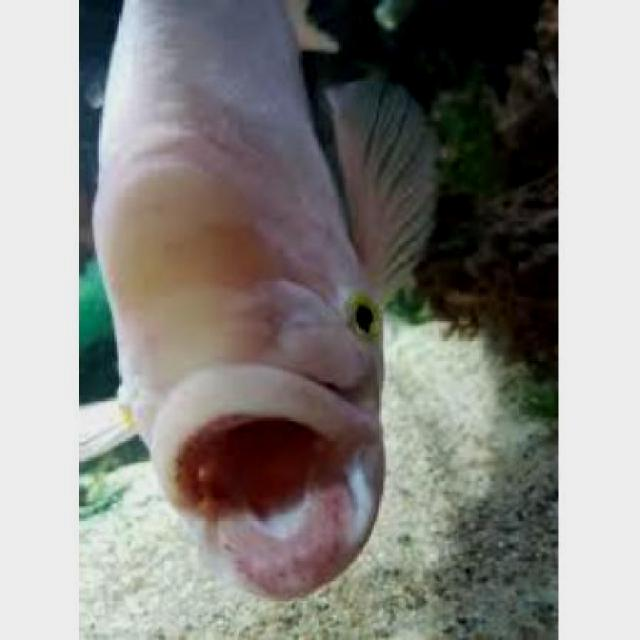gurame: (83, 0, 439, 588)
